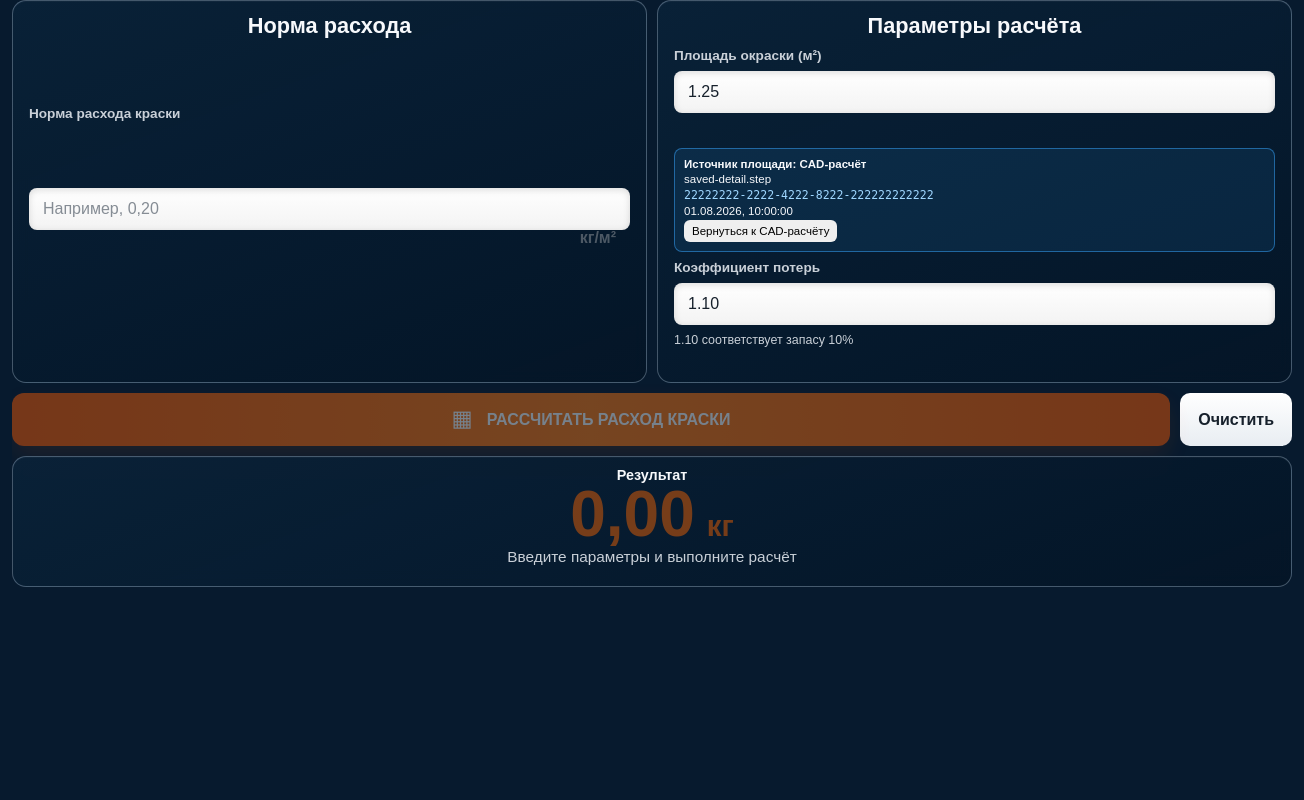
Scenario: Stage 5 workflow frontend › uses the paintable CAD area with a manual norm without requiring the norm for CAD itself
Expected: the number field labelled "Площадь окраски (м²)" holds "1.25", [674,71,1275,113]
Expected: the text "Источник площади: CAD-расчёт" is shown, [684,158,866,170]
Step 1. Type "0.25" into the field labelled "Норма расхода краски" → (330, 209), box [29,188,630,230]
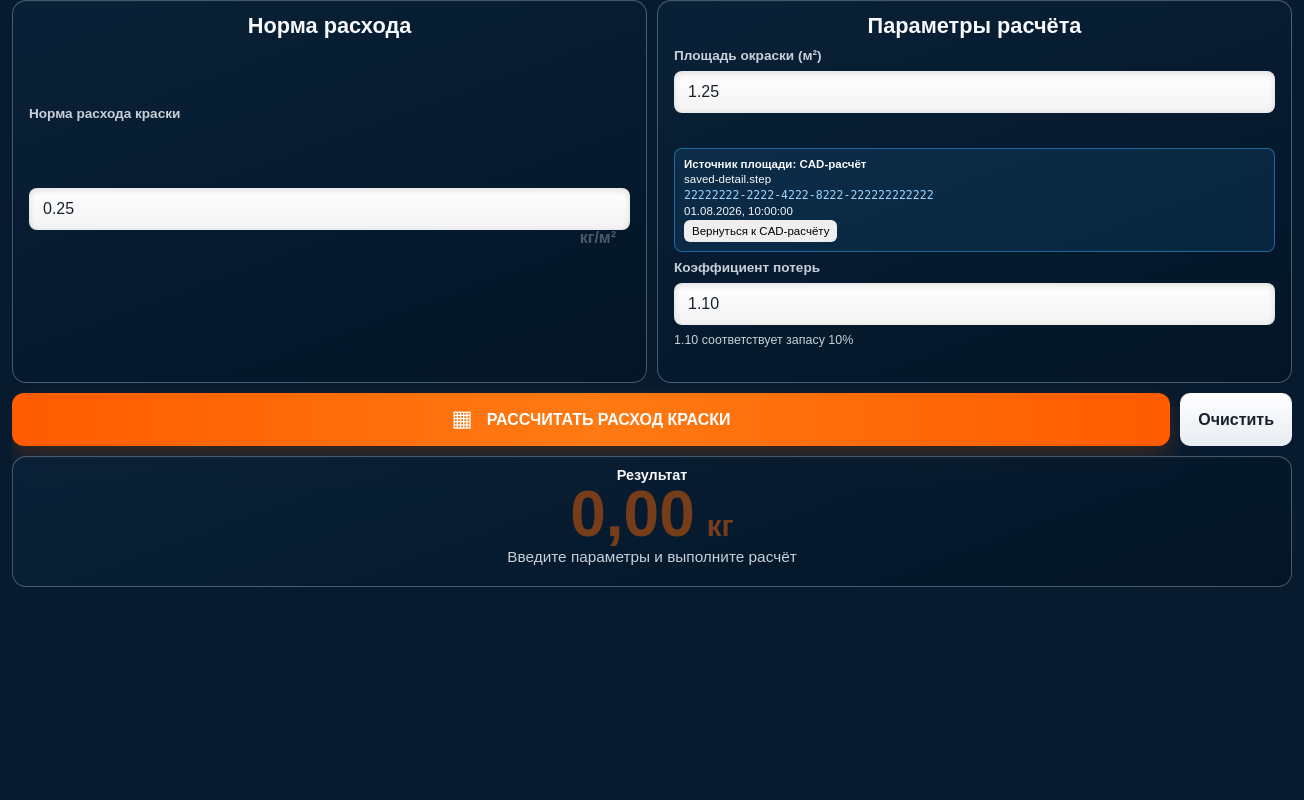
Step 2. Replace the text in the number field labelled "Коэффициент потерь" with "1" → (974, 304), box [674,283,1275,325]
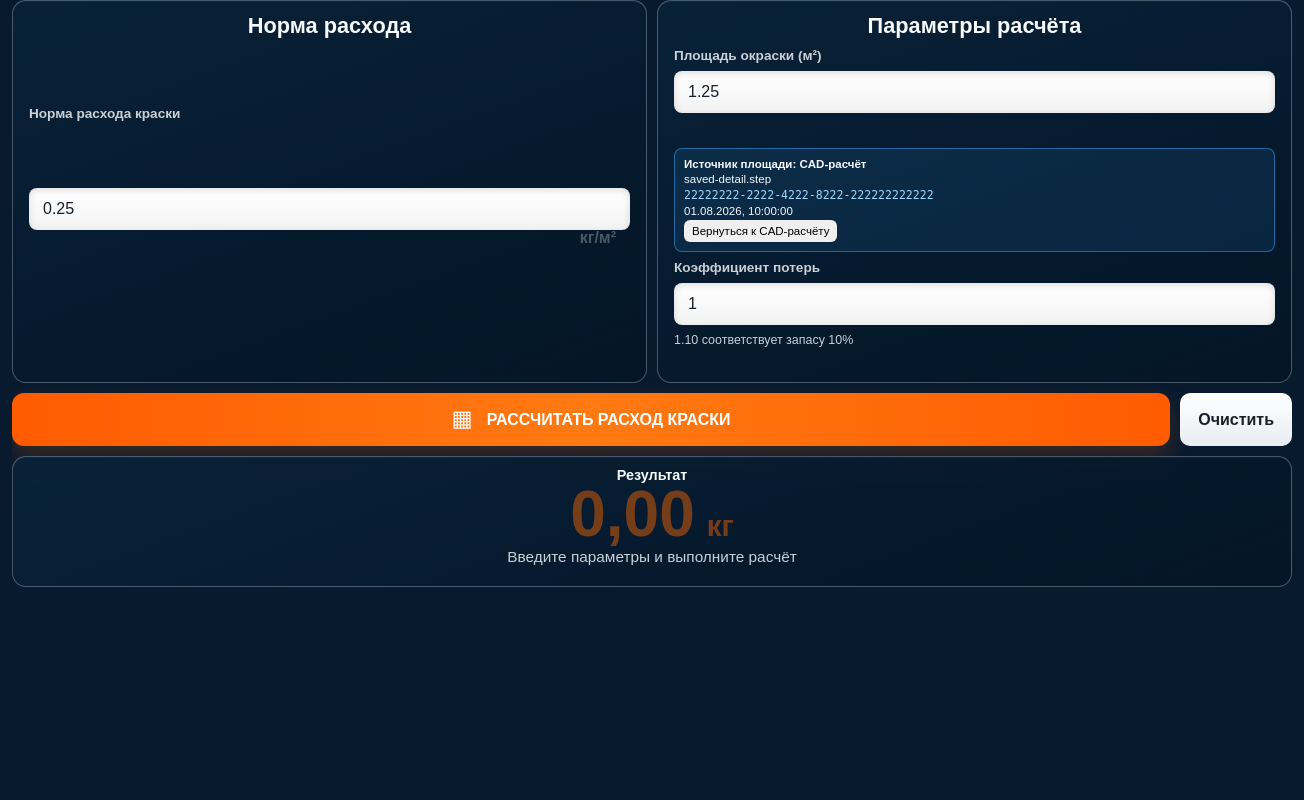
Step 3. Click the button "▦ РАССЧИТАТЬ РАСХОД КРАСКИ" → (591, 420), box [12,394,1170,446]
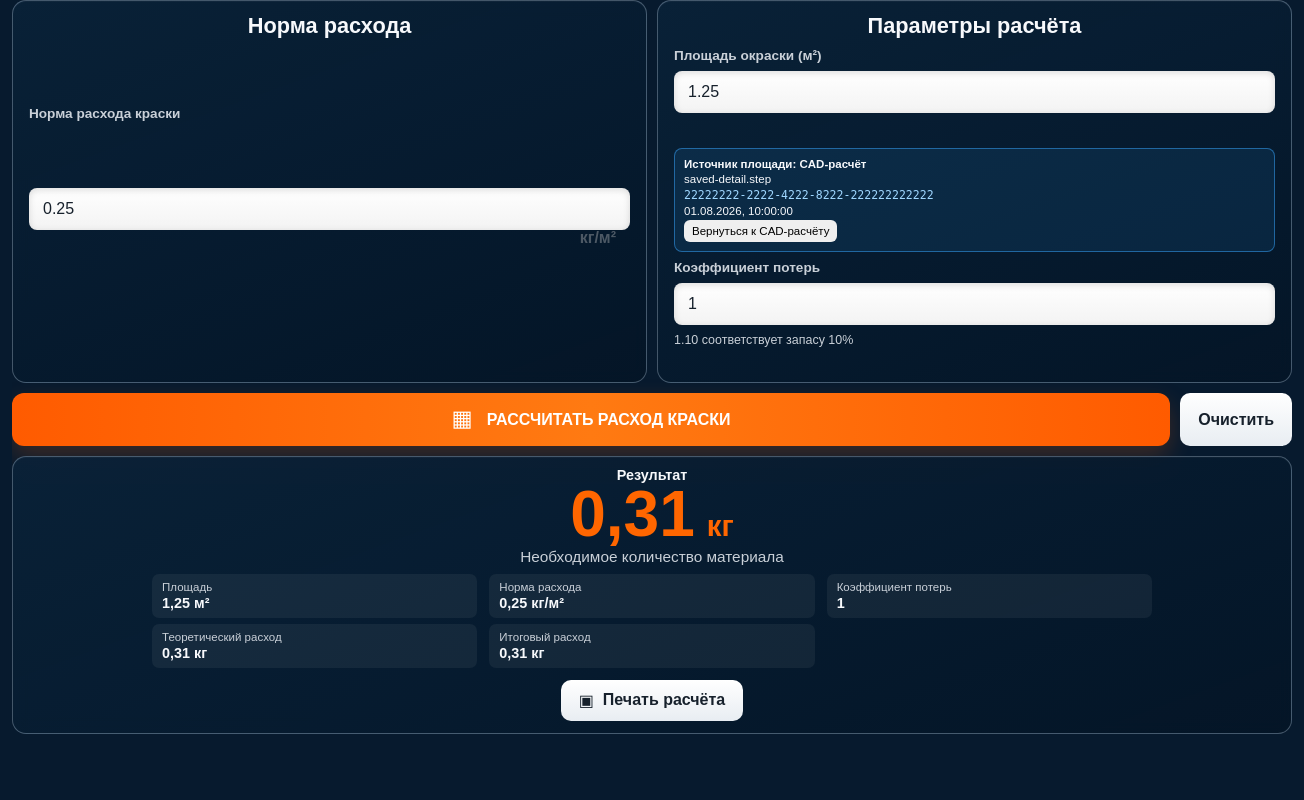
Expected: the text "0,31" is shown, [570,483,695,546]
Expected: the text "1,25 м²" is shown, [162,595,210,611]
